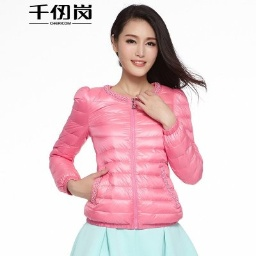face: (109, 4, 207, 99)
